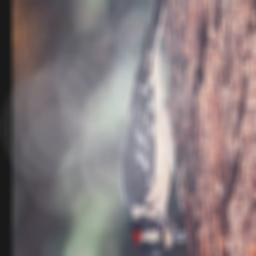Woodpecker: (118, 0, 191, 256)
